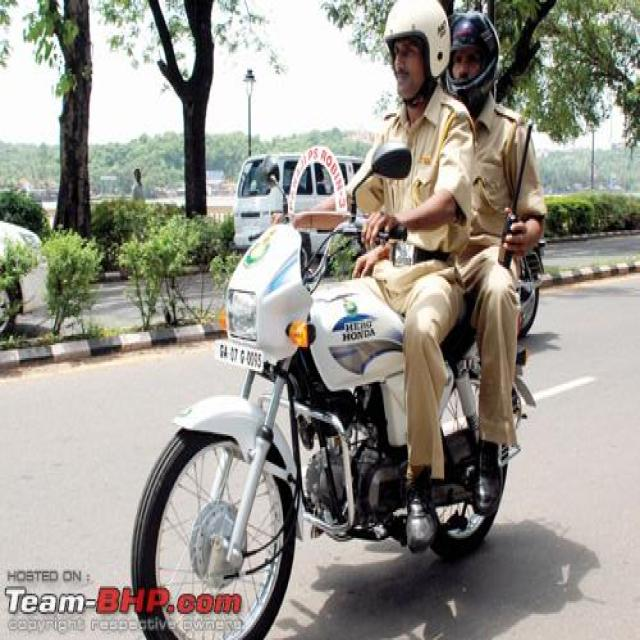motorcycle: (131, 0, 516, 638)
